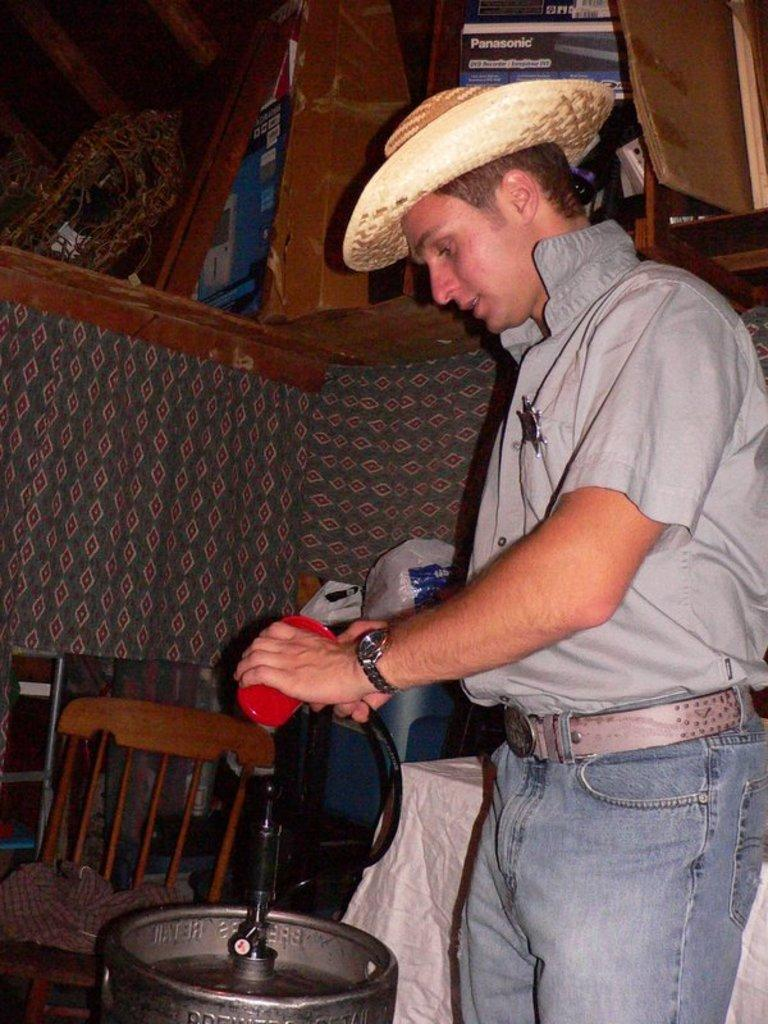Sem Máscara: (393, 194, 545, 337)
